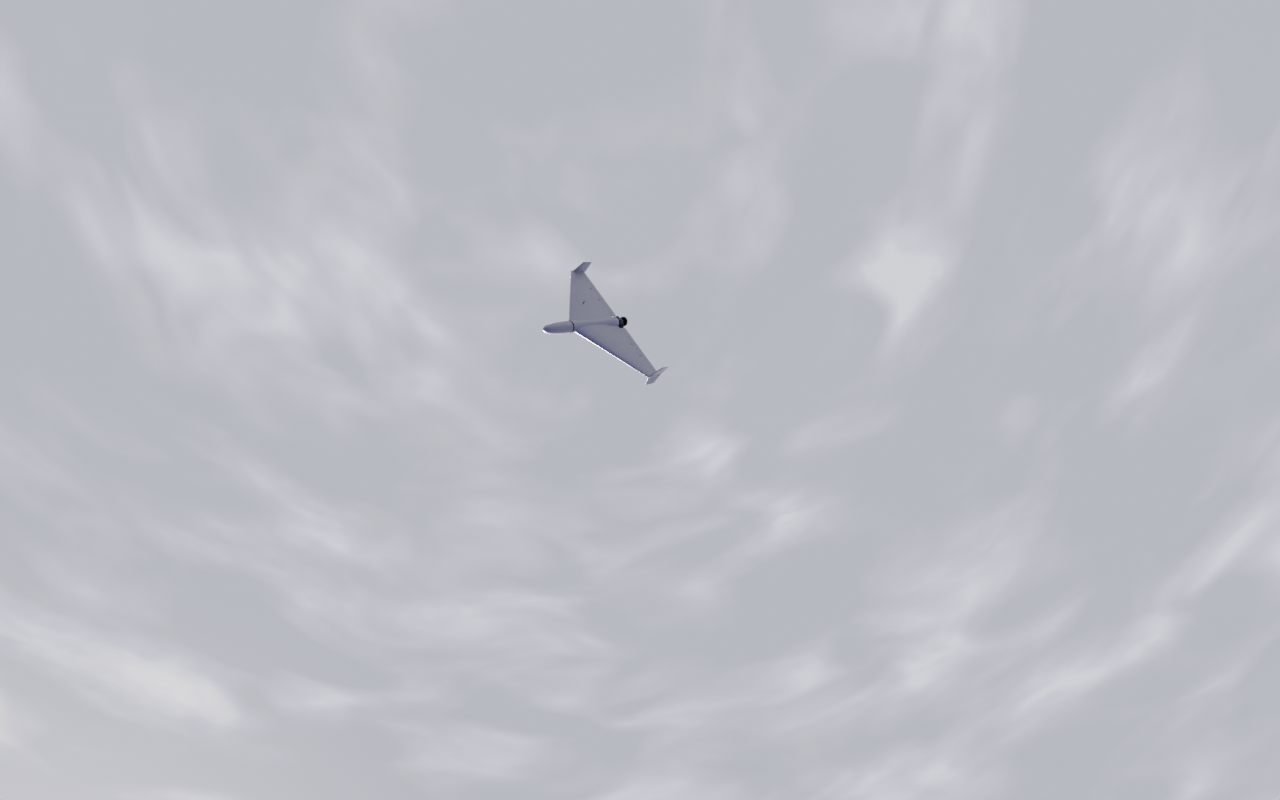shahed: (543, 262, 670, 386)
